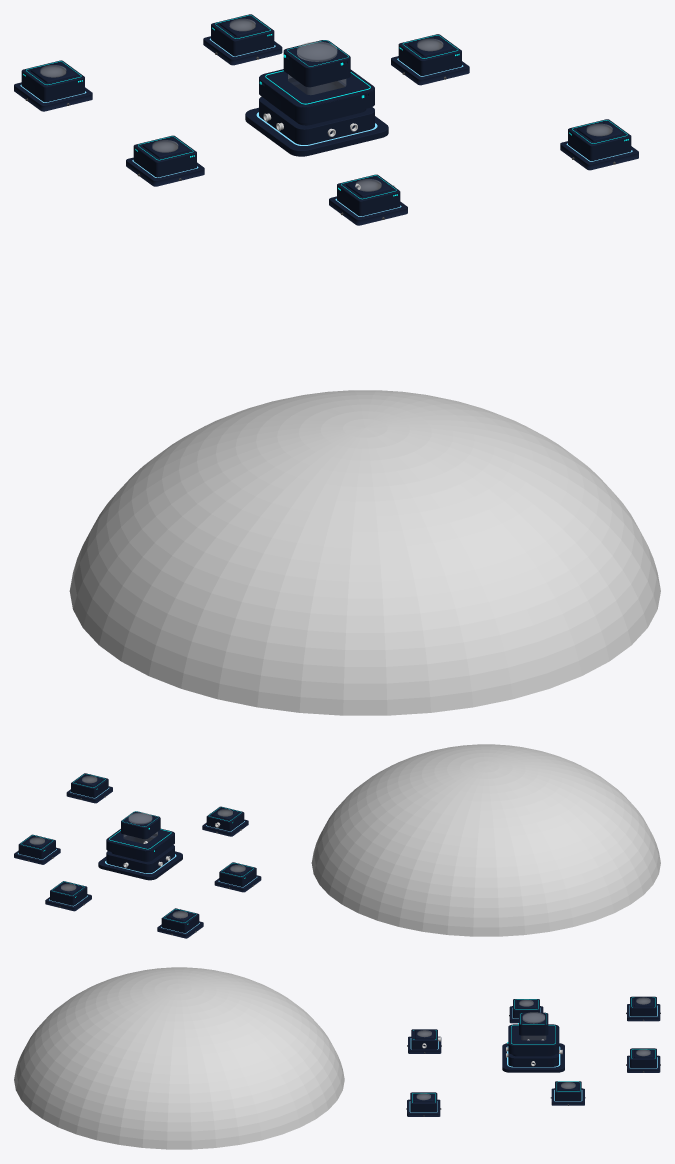
The model's file is Test_for_blender(14)copy.glb.
The picture shows the model from 3 angles, top to bottom: view 1: azimuth 30°, elevation 25°; view 2: azimuth 150°, elevation 25°; view 3: azimuth 270°, elevation 25°; orthographic projection. The views are drawn at different scales.
Visible parts, largest first — view 1: Sphere, Cube, Platform.004, Platform.003, Platform.005, Platform.001, Platform.002, Platform; view 2: Sphere, Cube, Platform.003, Platform.004, Platform.005, Platform.001, Platform.002, Platform; view 3: Sphere, Cube, Platform.003, Platform.002, Platform.001, Platform.004, Platform, Platform.005.
Part boxes in pixels (left/top/right/bottom): Sphere: left=69, top=390, right=660, bottom=715; Cube: left=245, top=40, right=388, bottom=156; Platform.004: left=203, top=14, right=282, bottom=65; Platform.003: left=14, top=60, right=92, bottom=111; Platform.005: left=126, top=135, right=204, bottom=186; Platform.001: left=391, top=34, right=469, bottom=85; Platform.002: left=560, top=119, right=638, bottom=170; Platform: left=329, top=174, right=407, bottom=225; Sphere: left=311, top=744, right=660, bottom=936; Cube: left=98, top=811, right=182, bottom=880; Platform.003: left=157, top=908, right=203, bottom=938; Platform.004: left=45, top=881, right=91, bottom=911; Platform.005: left=214, top=862, right=261, bottom=892; Platform.001: left=14, top=834, right=60, bottom=864; Platform.002: left=66, top=773, right=112, bottom=803; Platform: left=202, top=806, right=248, bottom=836; Sphere: left=14, top=967, right=344, bottom=1149; Cube: left=502, top=1012, right=564, bottom=1072; Platform.003: left=627, top=996, right=660, bottom=1021; Platform.002: left=407, top=1092, right=440, bottom=1116; Platform.001: left=551, top=1081, right=584, bottom=1105; Platform.004: left=627, top=1048, right=660, bottom=1072; Platform: left=408, top=1029, right=441, bottom=1053; Platform.005: left=509, top=999, right=543, bottom=1023.
Size of the model in its own units: 62.26 by 19.71 by 84.82.
